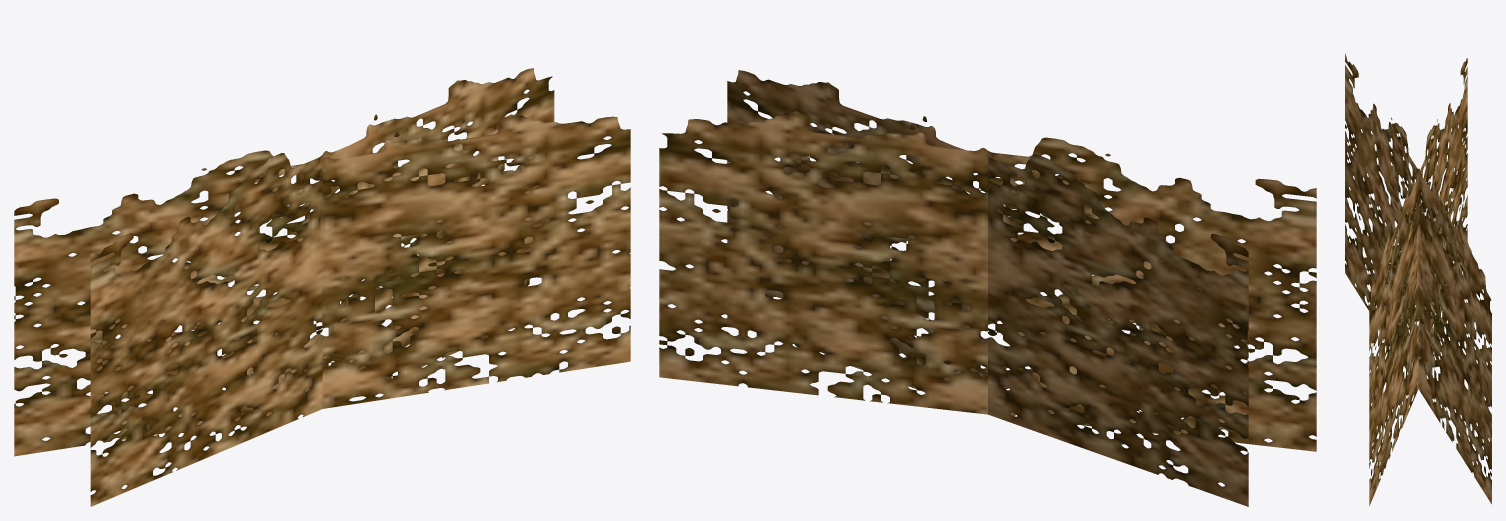
The model's file is bush_long_overgrown_autumn.fbx.
3 views of the same model, side by side, from view 1: azimuth 30°, elevation 25°; view 2: azimuth 150°, elevation 25°; view 3: azimuth 270°, elevation 25° (orthographic). The views are drawn at different scales.
Visible parts, largest first — view 1: bush_long_overgrown_autumn; view 2: bush_long_overgrown_autumn; view 3: bush_long_overgrown_autumn.
Part boxes in pixels (box(x1,y1,x2,y2)): bush_long_overgrown_autumn: box(14, 68, 630, 506); bush_long_overgrown_autumn: box(659, 70, 1316, 506); bush_long_overgrown_autumn: box(1345, 53, 1491, 505).
Size of the model in its own units: 209 by 106 by 54.93.
1 material, 1 textured.
